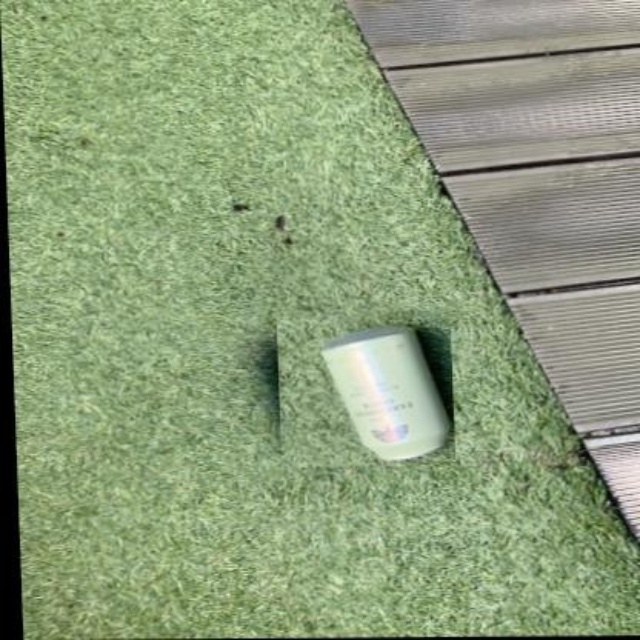trash: (322, 326, 448, 458)
